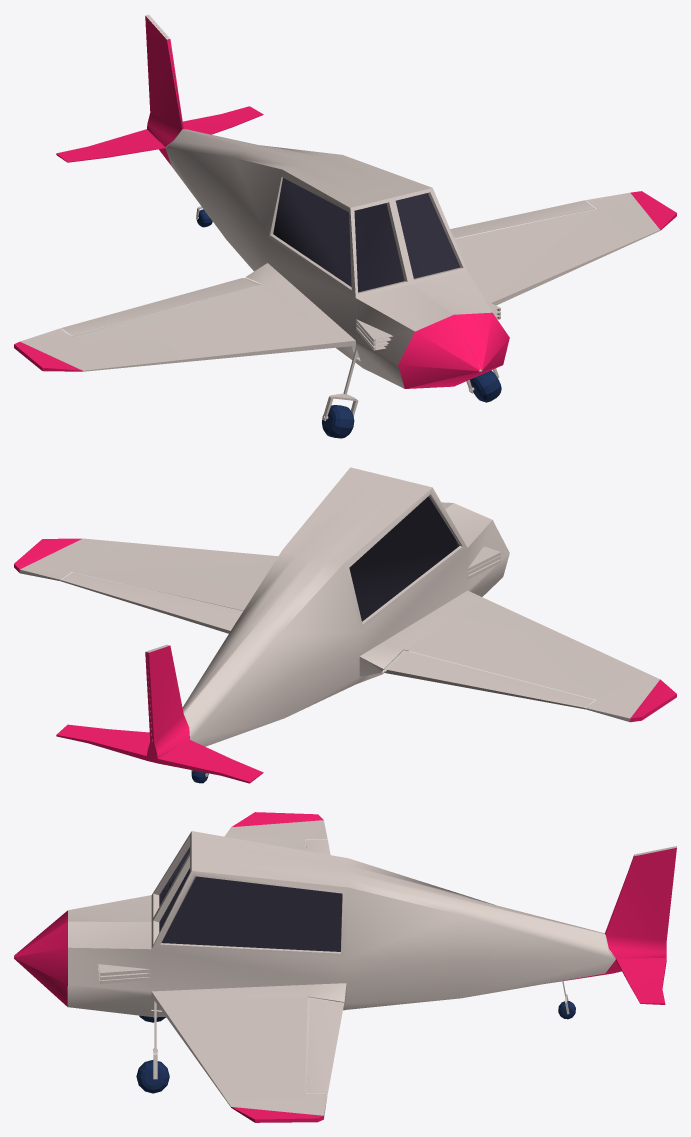
3 renders of one model, top to bottom at view 1: azimuth 30°, elevation 25°; view 2: azimuth 150°, elevation 25°; view 3: azimuth 270°, elevation 25°, orthographic.
Visible parts, largest first — view 1: body; view 2: body; view 3: body.
Part boxes in pixels (x1,y1,x2,y2): body: [14, 14, 676, 438]; body: [14, 467, 676, 783]; body: [14, 812, 676, 1122].
Bounding box in the file's own units: 9 × 2.87 × 8.2.
